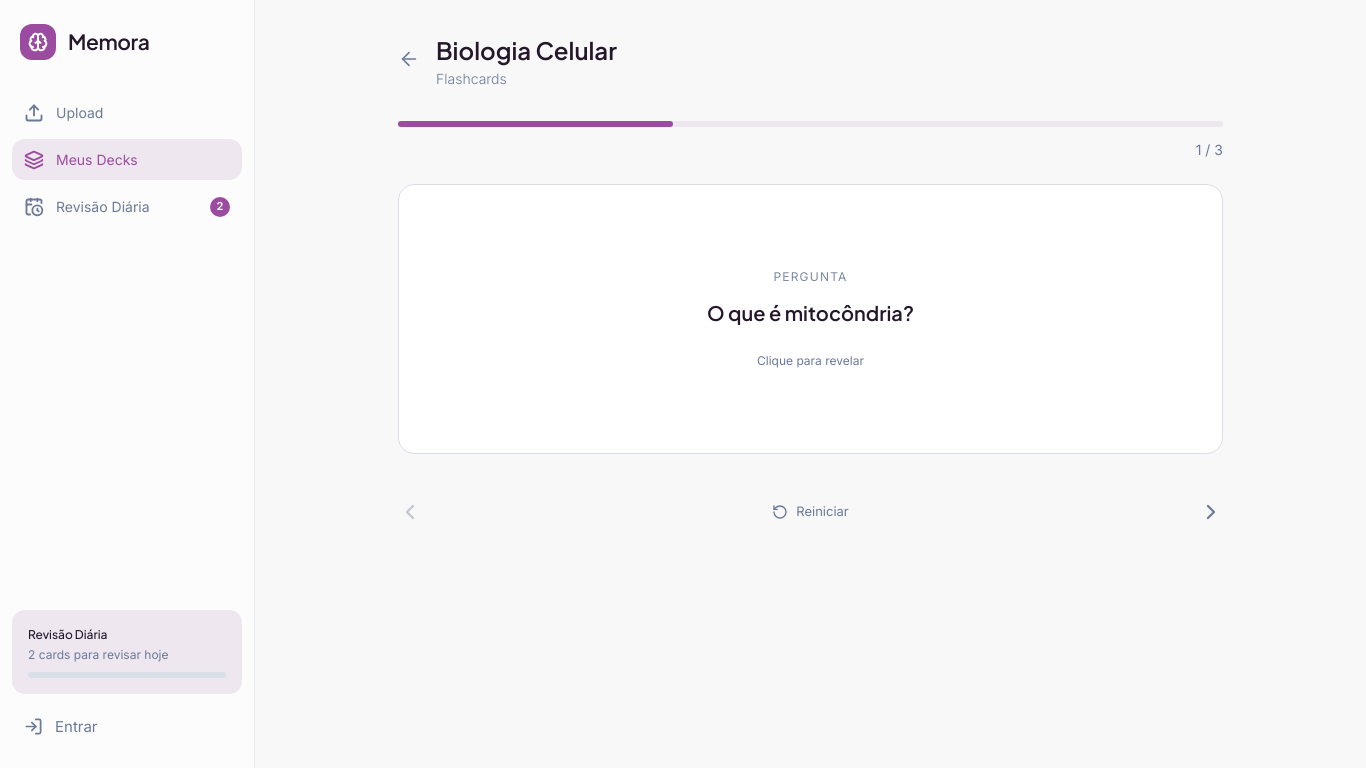
Test: FlashcardPage › 3 · Flip do card › exibe os botões Acertei e Errei após o flip
Expected: the heading "O que é mitocôndria?" is shown, 707,298 -> 914,328
Click the text "Clique para revelar": (810, 361) 757,352 -> 864,370
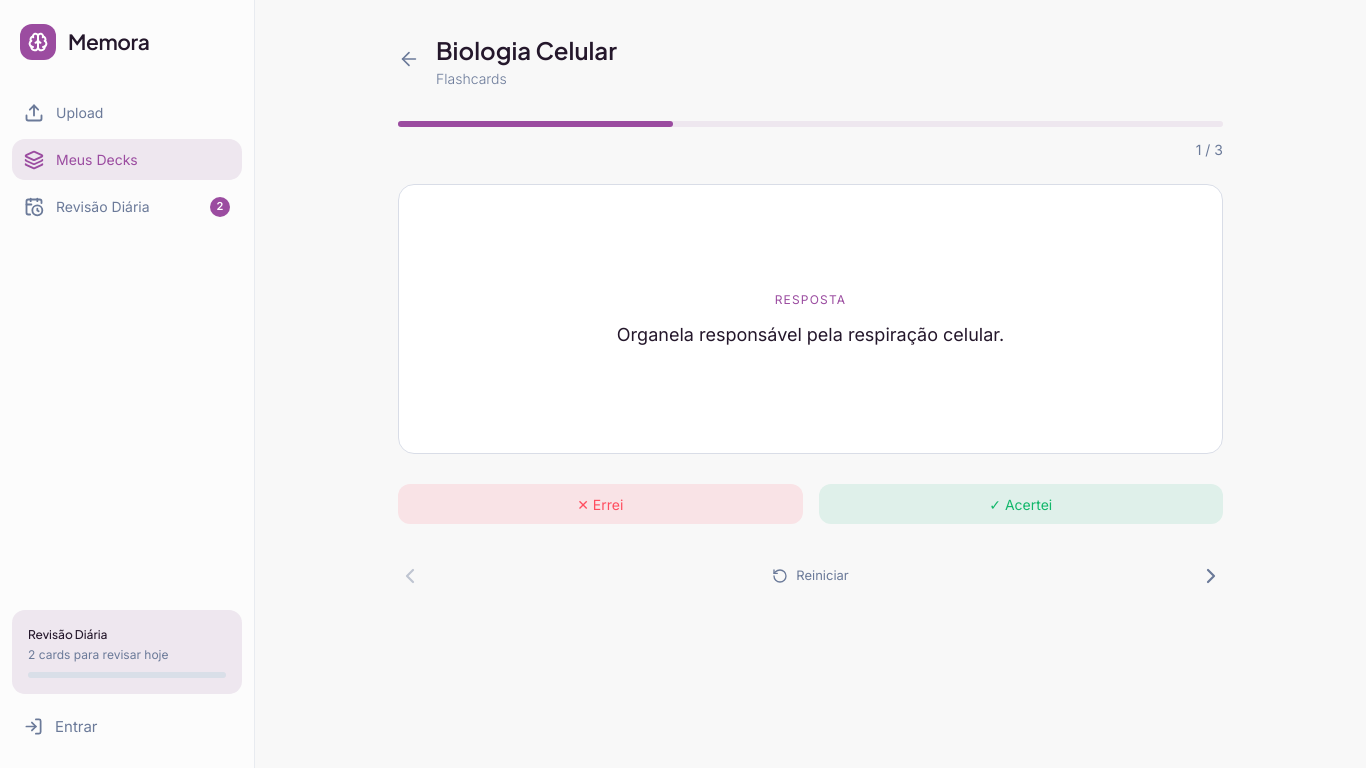
Expected: the button "✓ Acertei" is shown, 818,484 -> 1223,524
Expected: the button "✕ Errei" is shown, 398,484 -> 802,524
